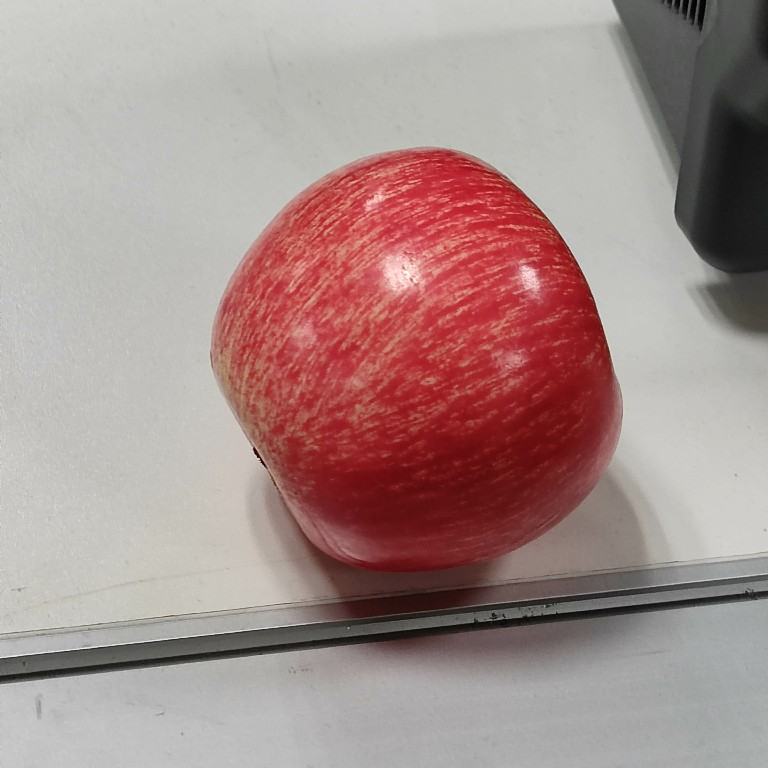fruit_apple: (198, 137, 641, 587)
